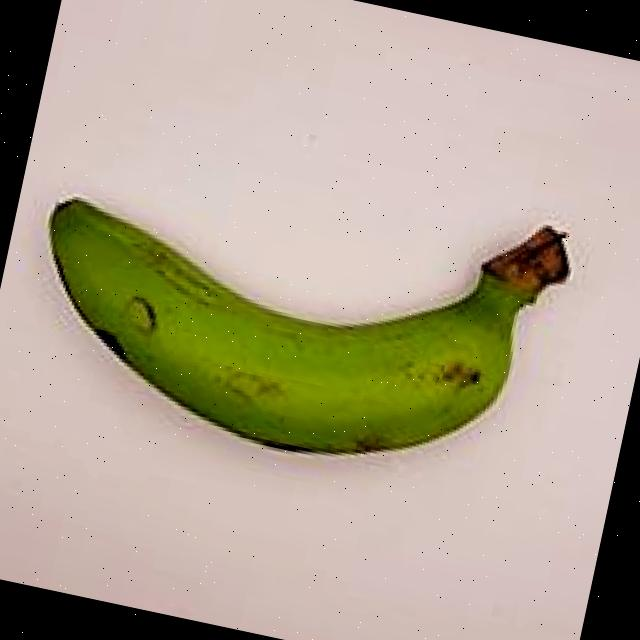Raw: (0, 107, 593, 510)
